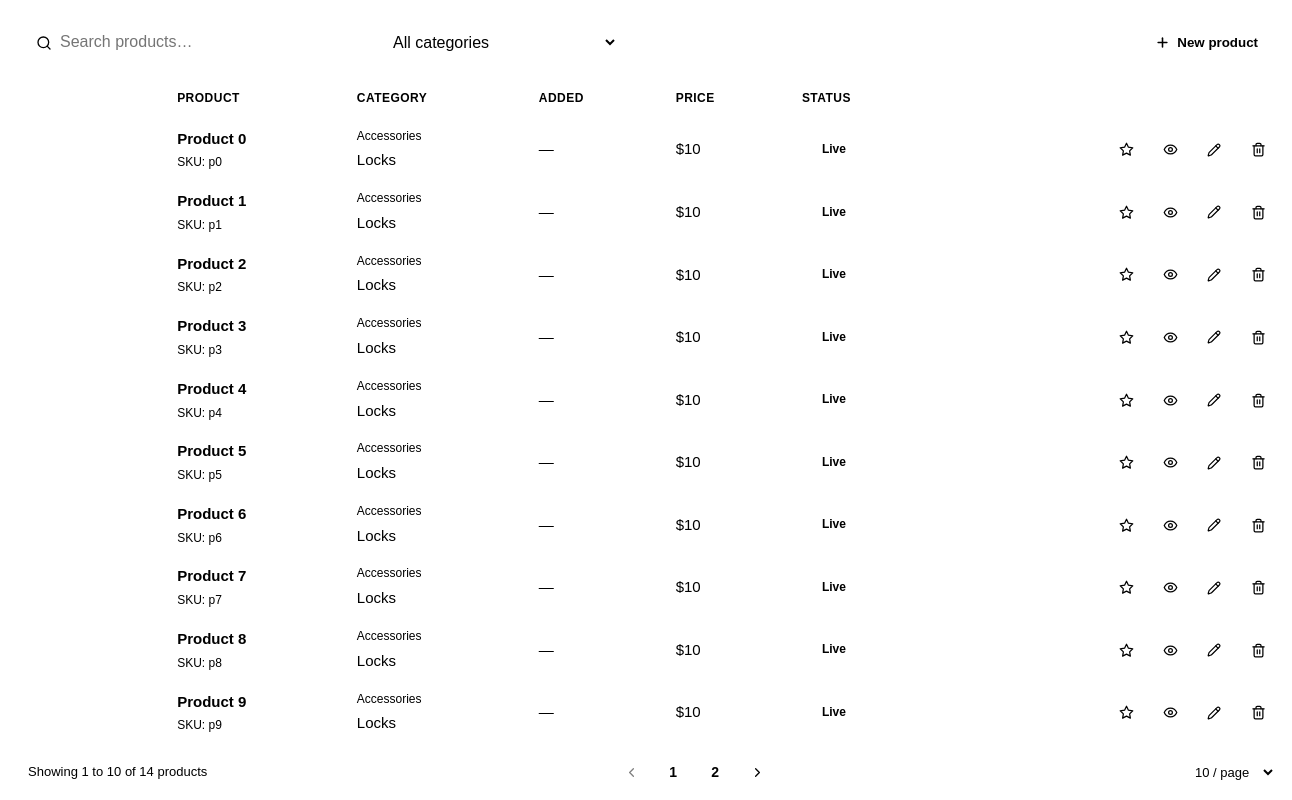
Test: ProductList › paginates to 10 rows per page by default and pages through the rest
The image size is (1292, 800).
(page scrolled)
Expected: the text "Product 0" is shown, [177,130,246,147]
Expected: the text "Product 12" is not shown
Click the button named "go to page 2": (715, 772) [697,754,733,790]
(page scrolled)
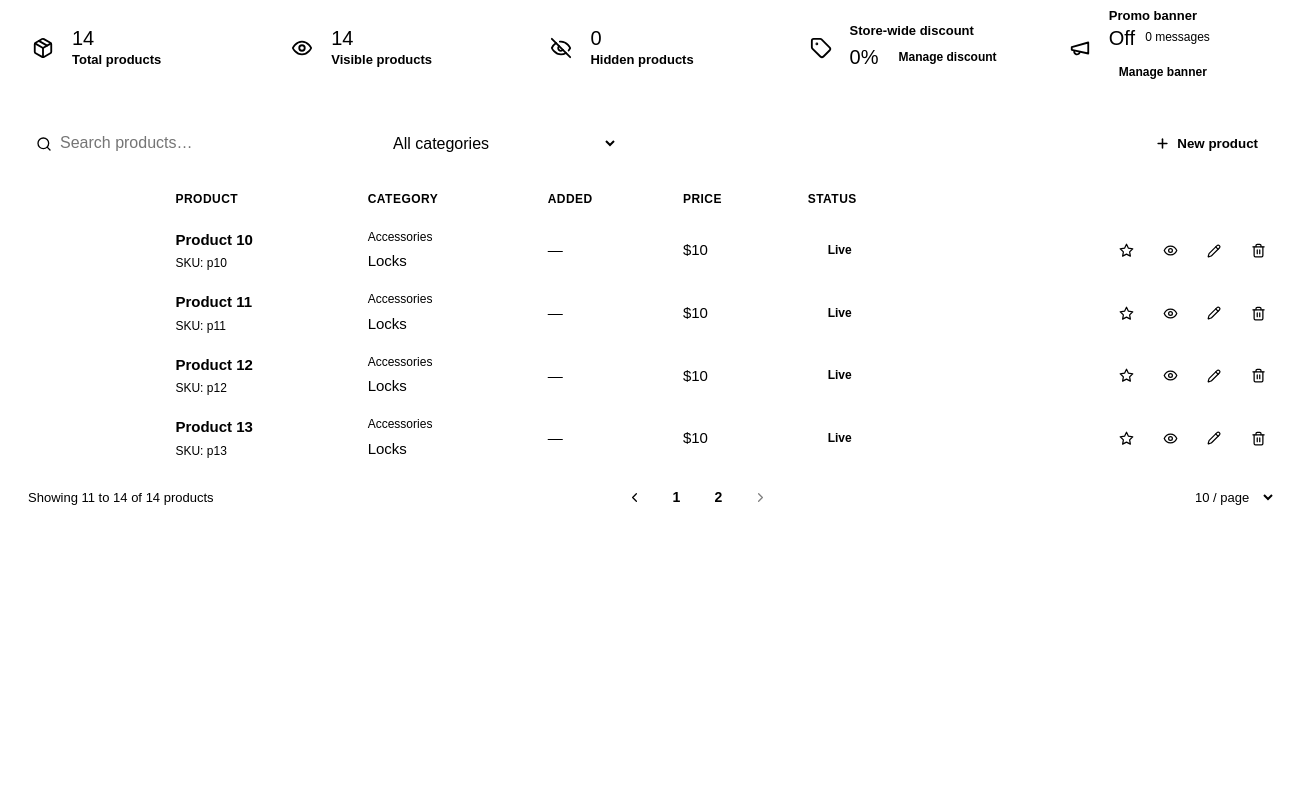
Expected: the text "Product 12" is shown, [175,356,253,373]
Expected: the text "Product 0" is gone
